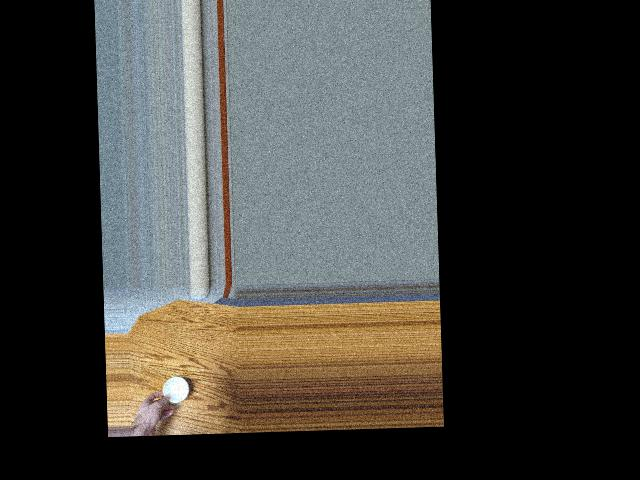cotage: (159, 375, 191, 403)
